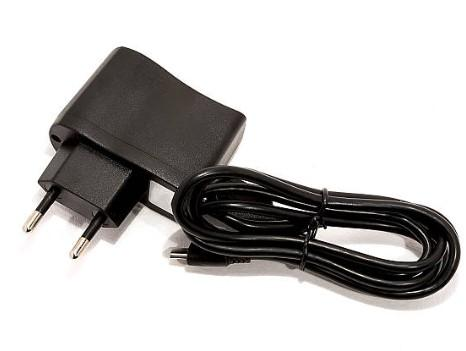cable: (24, 47, 459, 298)
